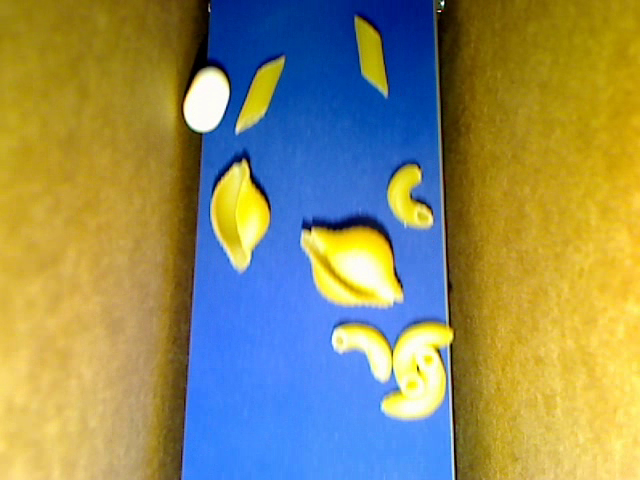elbow: (379, 346, 449, 420), (392, 320, 454, 395), (331, 322, 393, 383), (387, 162, 435, 230)
penne: (233, 56, 285, 133), (353, 15, 388, 97)
shell: (299, 223, 403, 309), (209, 161, 271, 273)
